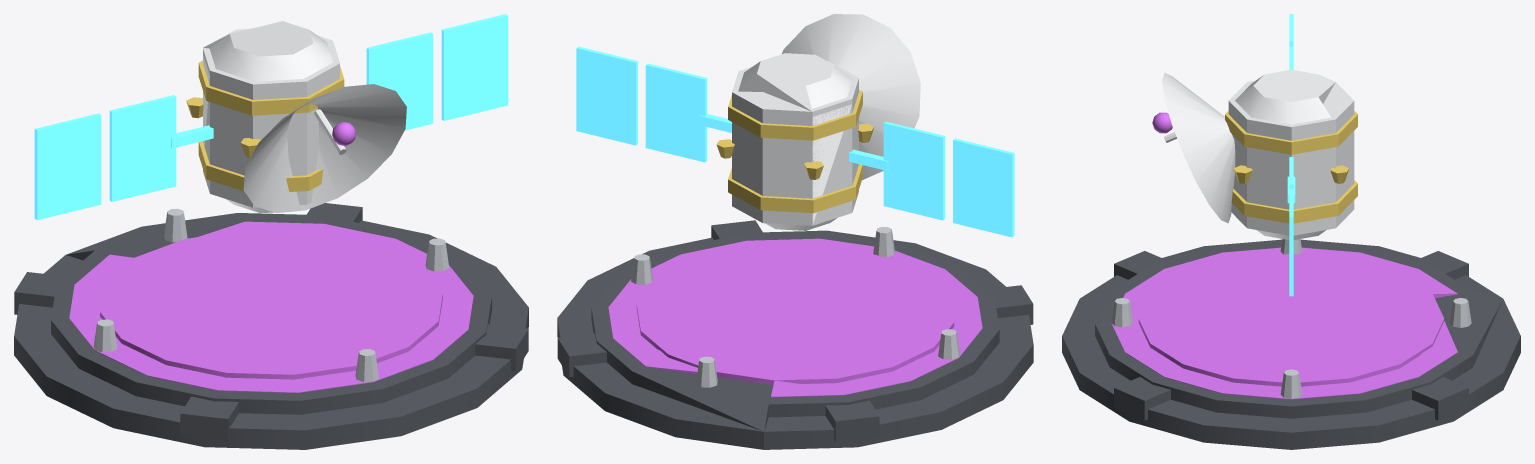
The model's file is PowerUp_Satellite.fbx.
3 renders of one model, left to right at view 1: azimuth 30°, elevation 25°; view 2: azimuth 150°, elevation 25°; view 3: azimuth 270°, elevation 25°, orthographic. The views are drawn at different scales.
Visible parts, largest first — view 1: Satellite_Pedestal_GlowRing, Satellite_Pedestal_Chassis, Satellite_SolarWings, Satellite_CoreBus.001, Satellite_RadarDish.001, Satellite_GoldThermalFoil, Satellite_Pedestal_Pylons; view 2: Satellite_Pedestal_GlowRing, Satellite_Pedestal_Chassis, Satellite_SolarWings, Satellite_CoreBus.001, Satellite_RadarDish.001, Satellite_GoldThermalFoil, Satellite_Pedestal_Pylons; view 3: Satellite_Pedestal_GlowRing, Satellite_Pedestal_Chassis, Satellite_CoreBus.001, Satellite_RadarDish.001, Satellite_GoldThermalFoil, Satellite_Pedestal_Pylons, Satellite_SolarWings.
Boxes of the visible parts, x1,y1,x2,y2 form: Satellite_Pedestal_GlowRing: [69, 221, 473, 392]; Satellite_Pedestal_Chassis: [14, 203, 528, 449]; Satellite_SolarWings: [34, 14, 508, 220]; Satellite_CoreBus.001: [203, 21, 339, 213]; Satellite_RadarDish.001: [243, 84, 406, 213]; Satellite_GoldThermalFoil: [186, 60, 344, 191]; Satellite_Pedestal_Pylons: [93, 208, 449, 382]; Satellite_Pedestal_GlowRing: [608, 238, 982, 397]; Satellite_Pedestal_Chassis: [557, 220, 1033, 449]; Satellite_SolarWings: [576, 46, 1014, 237]; Satellite_CoreBus.001: [732, 53, 858, 230]; Satellite_RadarDish.001: [782, 14, 920, 179]; Satellite_GoldThermalFoil: [716, 89, 874, 213]; Satellite_Pedestal_Pylons: [631, 226, 959, 387]; Satellite_Pedestal_GlowRing: [1111, 247, 1457, 399]; Satellite_Pedestal_Chassis: [1062, 239, 1520, 449]; Satellite_CoreBus.001: [1228, 69, 1354, 239]; Satellite_RadarDish.001: [1162, 73, 1235, 223]; Satellite_GoldThermalFoil: [1225, 111, 1357, 223]; Satellite_Pedestal_Pylons: [1111, 239, 1471, 398]; Satellite_SolarWings: [1287, 14, 1295, 296].
Bounding box in the file's own units: 0.88 × 0.5501 × 0.84.
